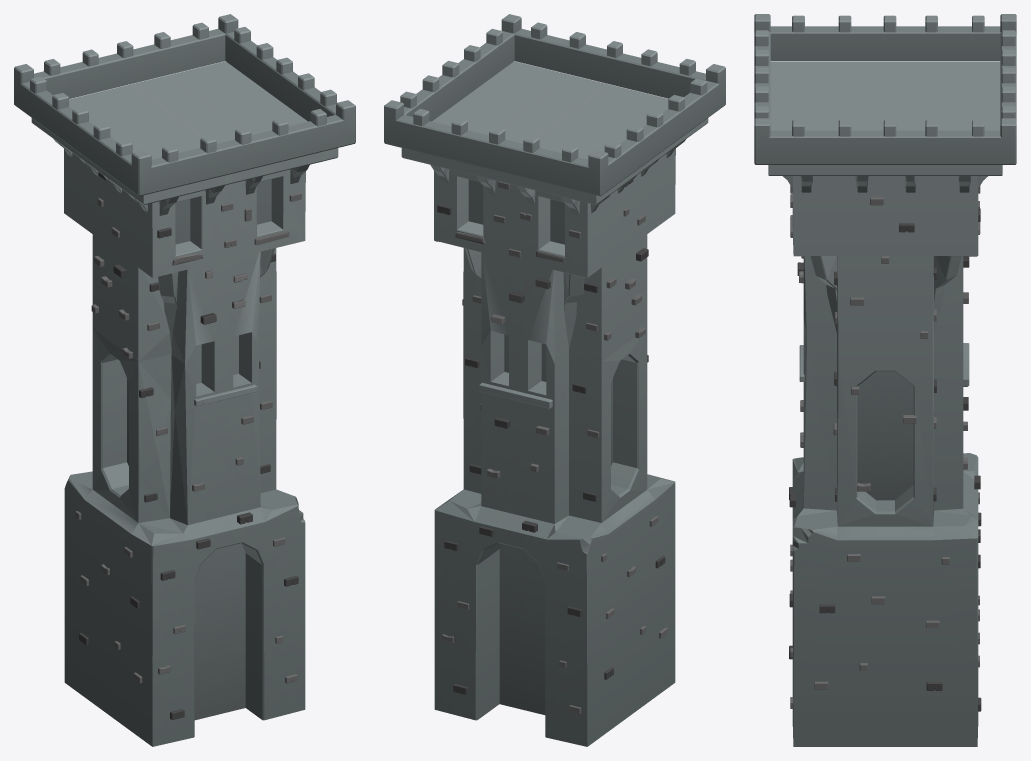
Rendered from ZLP_Build_C_5.FBX.
3 renders of one model, left to right at view 1: azimuth 30°, elevation 25°; view 2: azimuth 150°, elevation 25°; view 3: azimuth 270°, elevation 25°, orthographic. The views are drawn at different scales.
Parts seen in each view (by area): view 1: ZLP_Build_C_5; view 2: ZLP_Build_C_5; view 3: ZLP_Build_C_5.
Part boxes in pixels (<box>): ZLP_Build_C_5: <box>14,14,355,746</box>; ZLP_Build_C_5: <box>384,14,725,746</box>; ZLP_Build_C_5: <box>754,14,1016,746</box>.
Bounding box in the file's own units: 1390 × 3728 × 1387.
